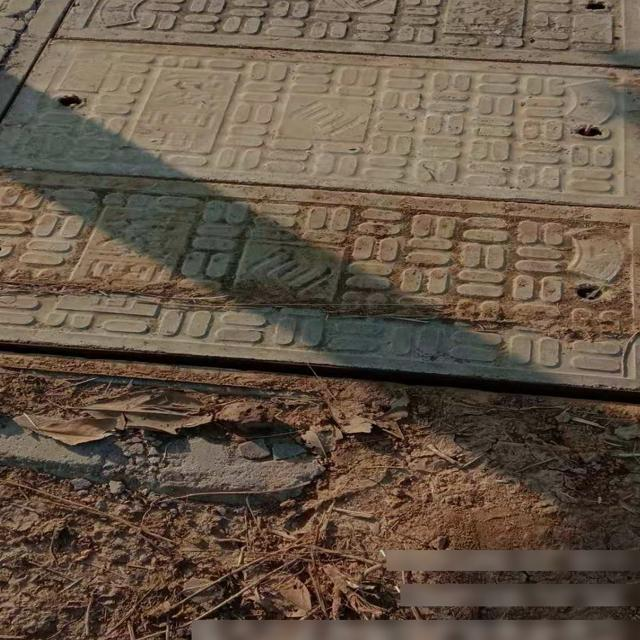circle: (0, 0, 640, 424)
